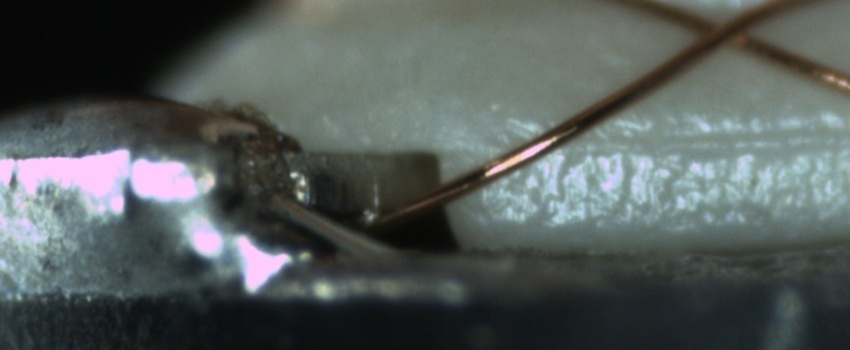CL: (683, 2, 776, 60)
DL: (540, 107, 849, 176)
